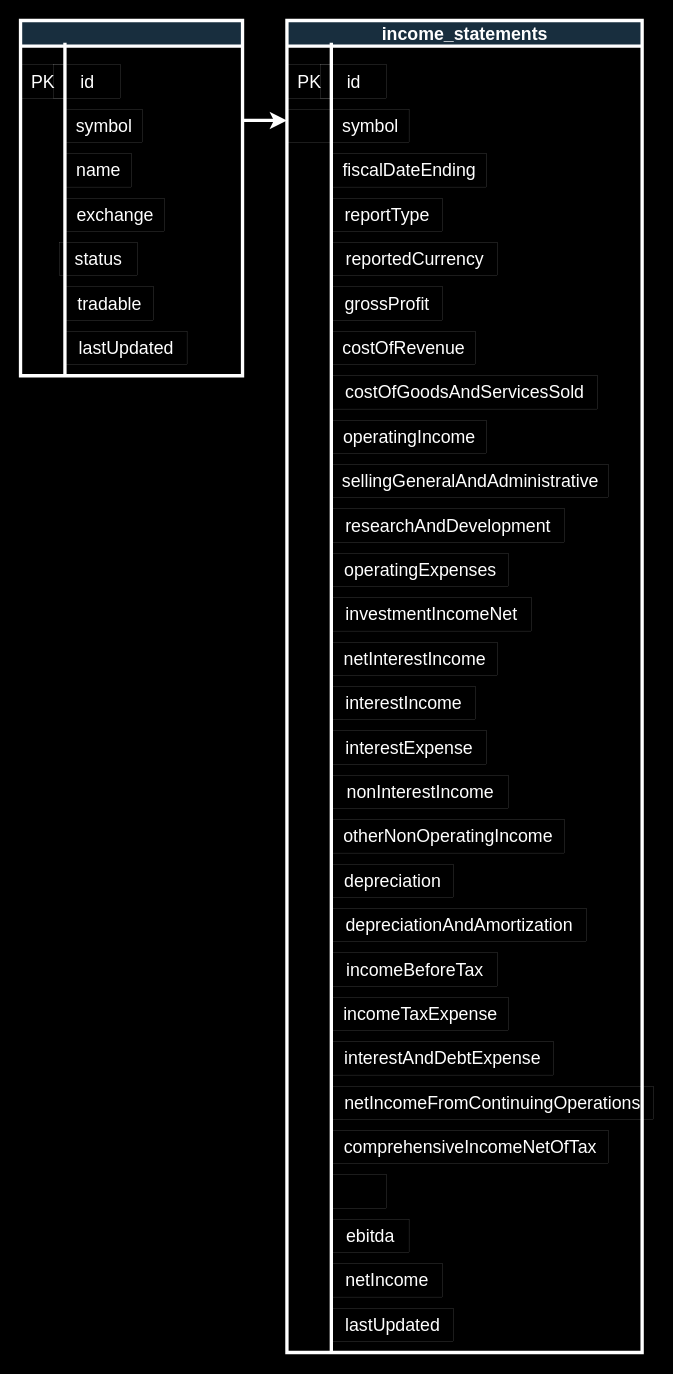
The diagram is 673 pixels wide and 1374 high, and some of its shapes have lost their labels. Each missing label, with the box of its shape:
asset: (18, 18, 244, 377)
ebit: (331, 1174, 386, 1208)
FK: (286, 109, 331, 142)
